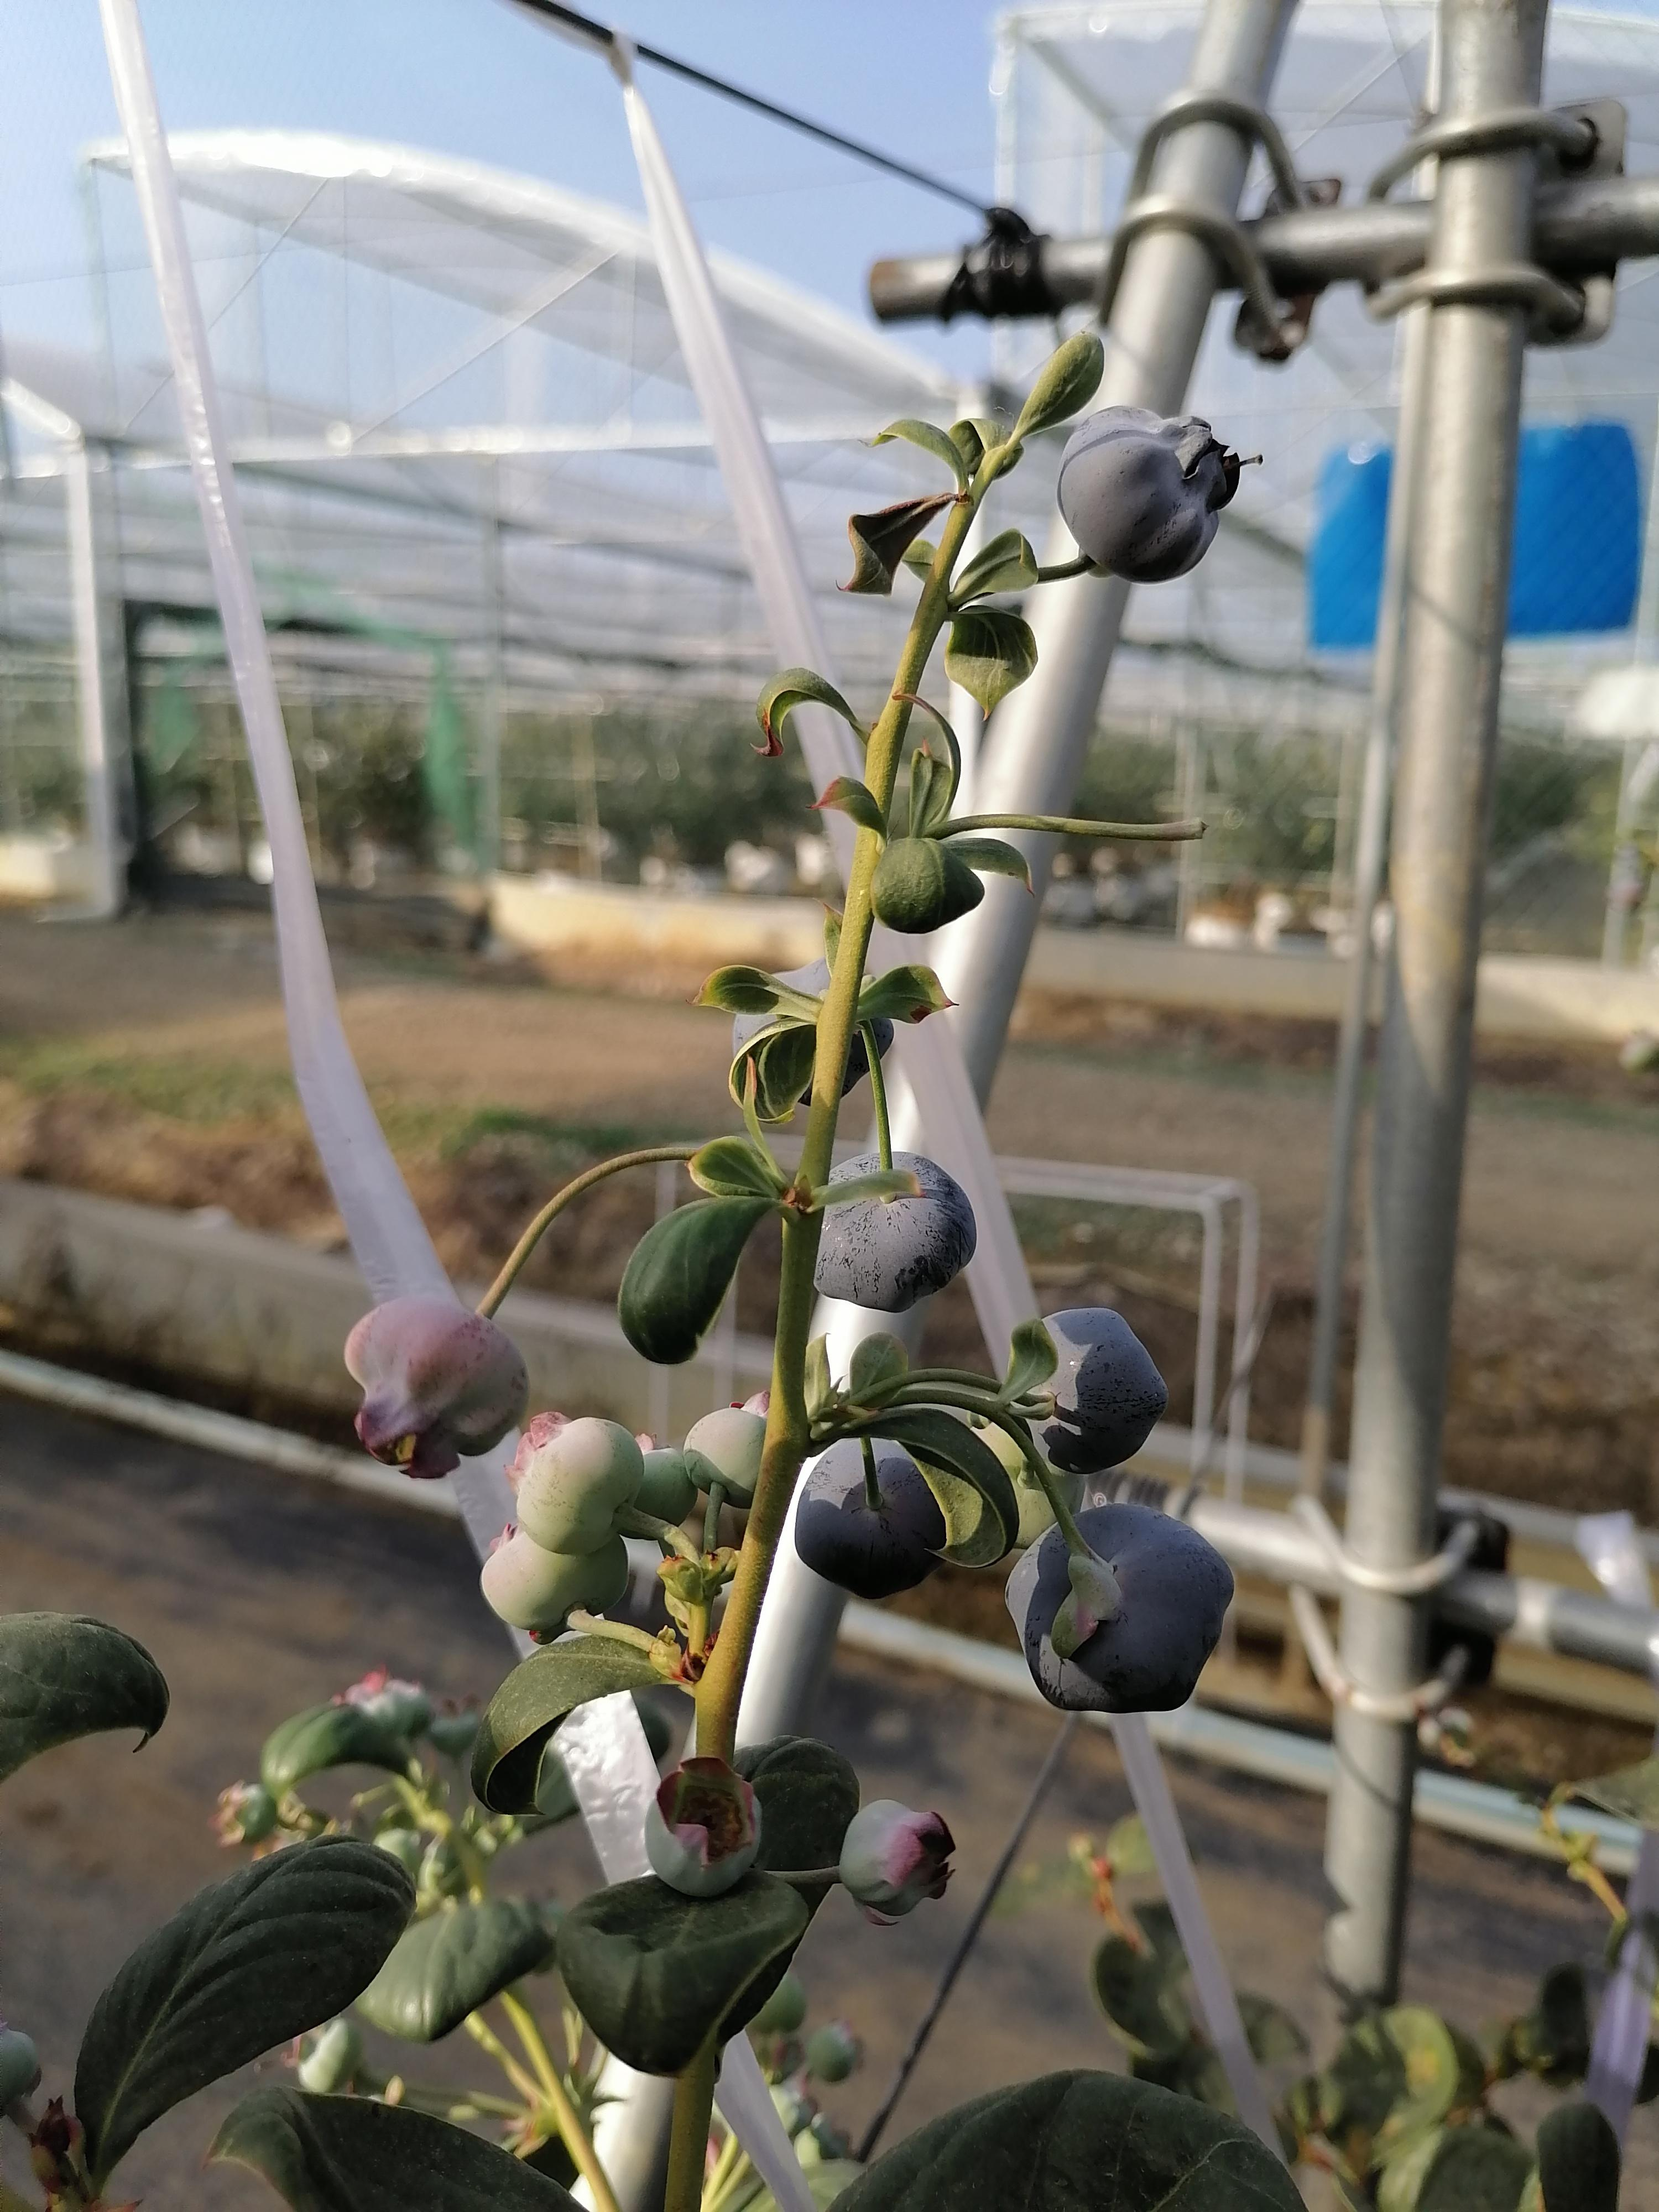ripe-blueberries: (1004, 1500, 1236, 1716), (1056, 402, 1243, 585), (814, 1151, 978, 1313), (1011, 1308, 1168, 1475), (793, 1440, 943, 1602), (730, 958, 892, 1104)
